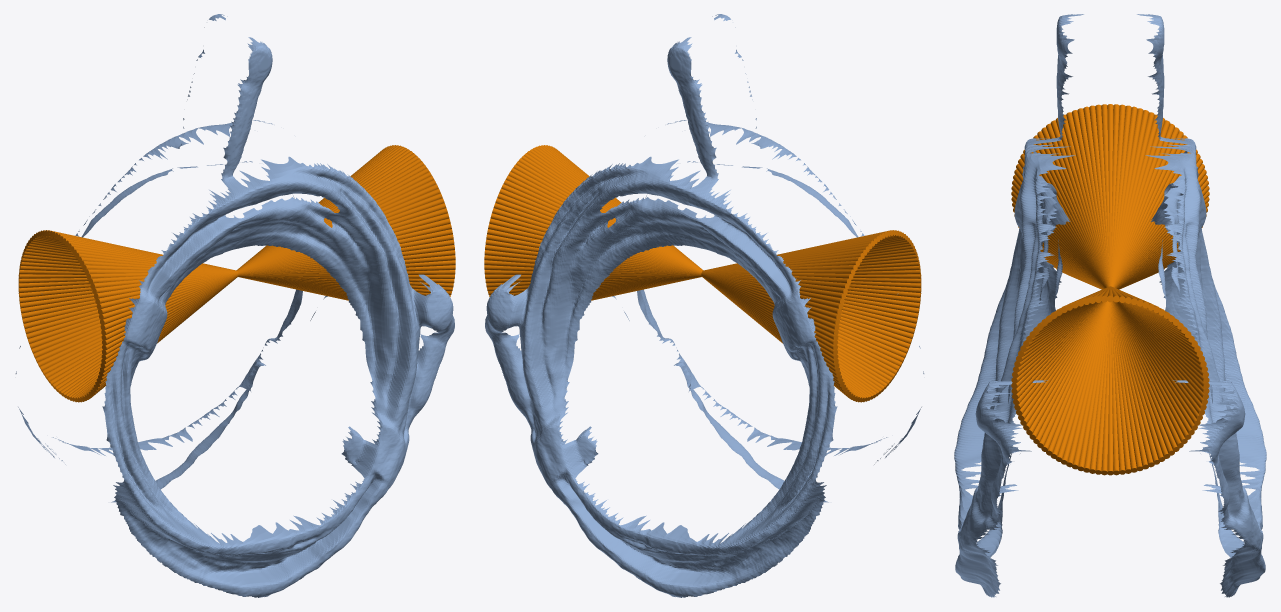
Rendered from A20021002_6145-37-530-7650_DigitalTwin.glb.
The picture shows the model from 3 angles, left to right: view 1: azimuth 30°, elevation 25°; view 2: azimuth 150°, elevation 25°; view 3: azimuth 270°, elevation 25°; orthographic projection. The views are drawn at different scales.
Parts seen in each view (by area): view 1: world; view 2: world; view 3: world.
Boxes of the visible parts, box(x1,y1,x2,y2) form: world: box(15, 14, 455, 597); world: box(484, 14, 924, 597); world: box(954, 14, 1266, 597).
Bounding box in the file's own units: 269 × 376 × 184.
